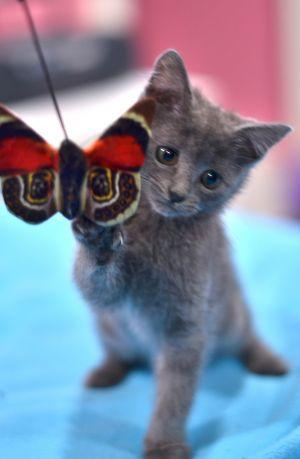rblue: (88, 39, 300, 258)
